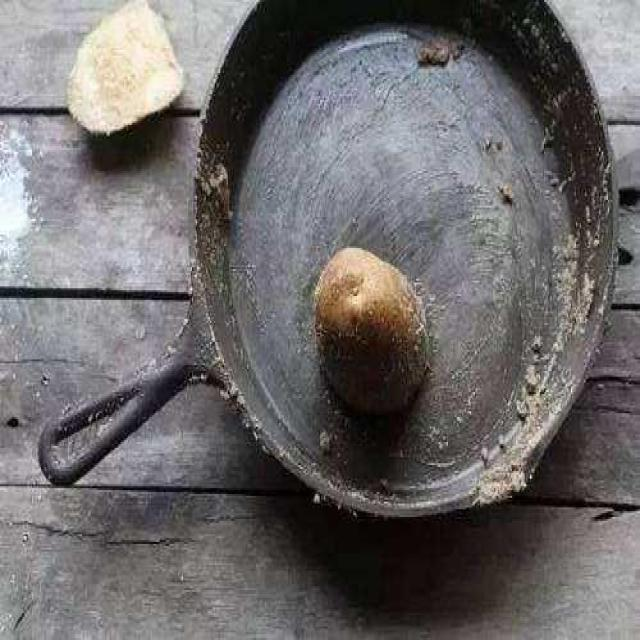Wet: (312, 248, 429, 417)
